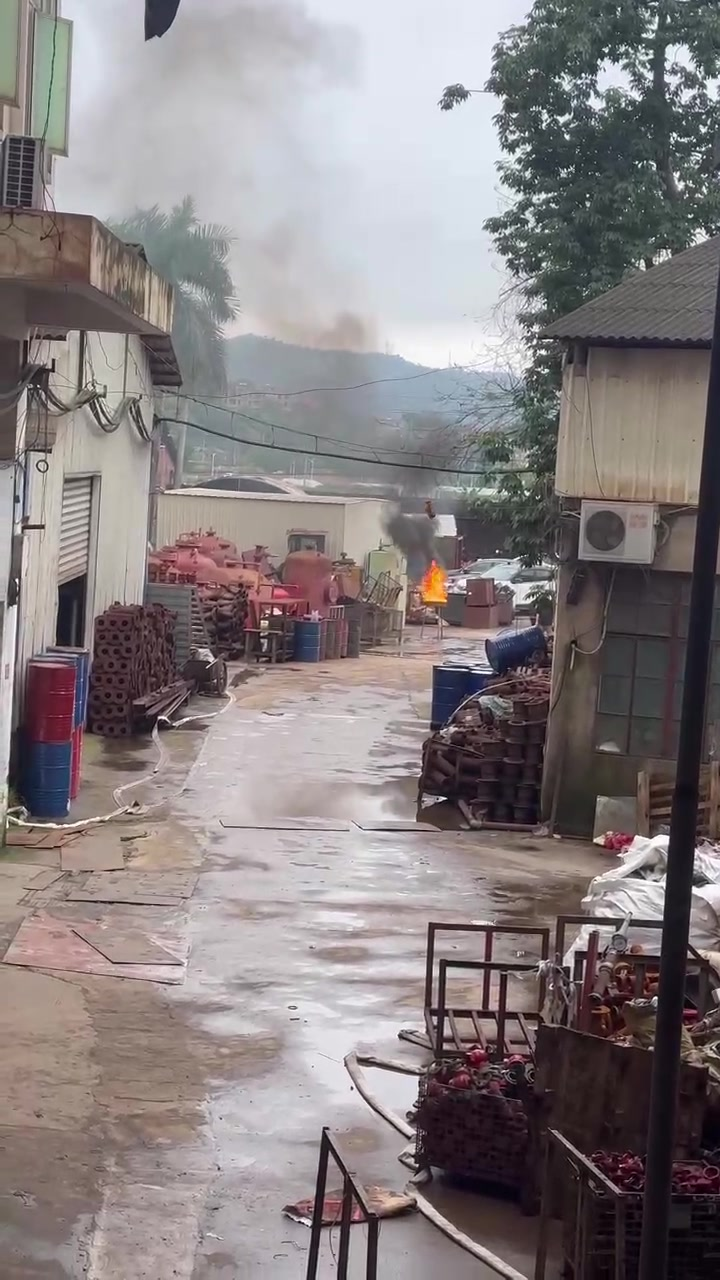fire: (422, 559, 446, 601)
